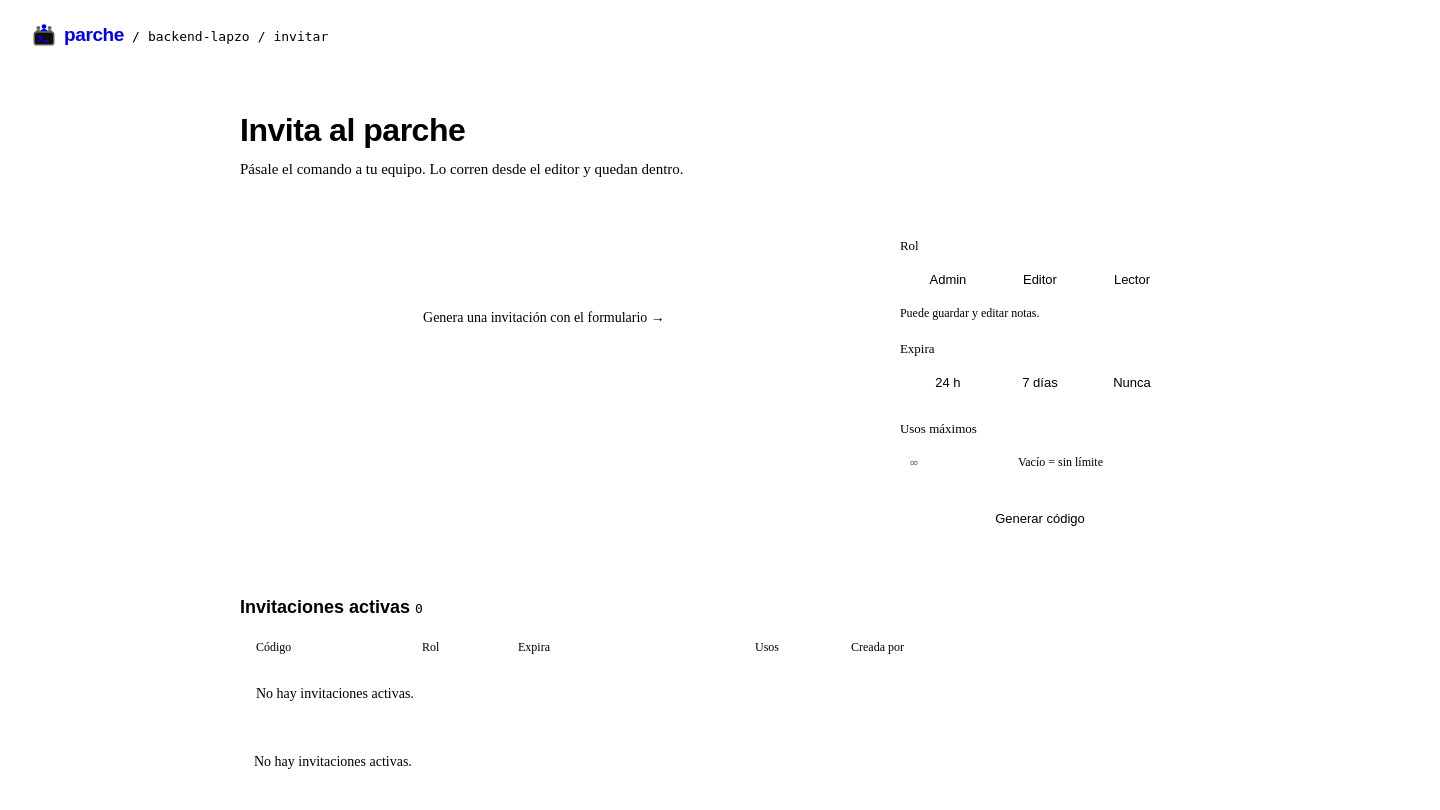
Test: InvitarPage › shows an error message when create returns 403
Click the button "Generar código" at (1040, 519), box left=900, top=501, right=1180, bottom=537
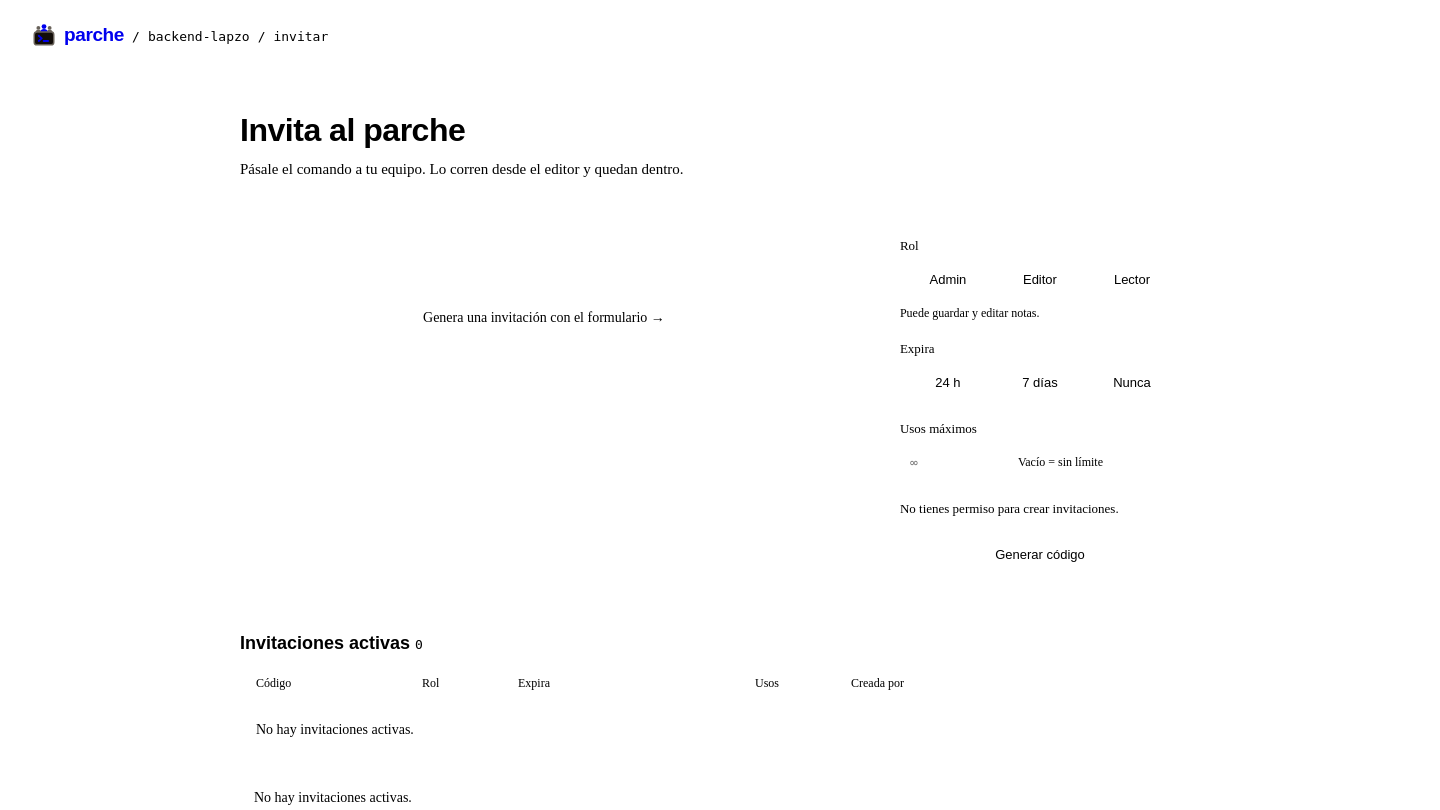
Check: the text "No tienes permiso para crear invitaciones." is shown, box left=900, top=501, right=1119, bottom=516
